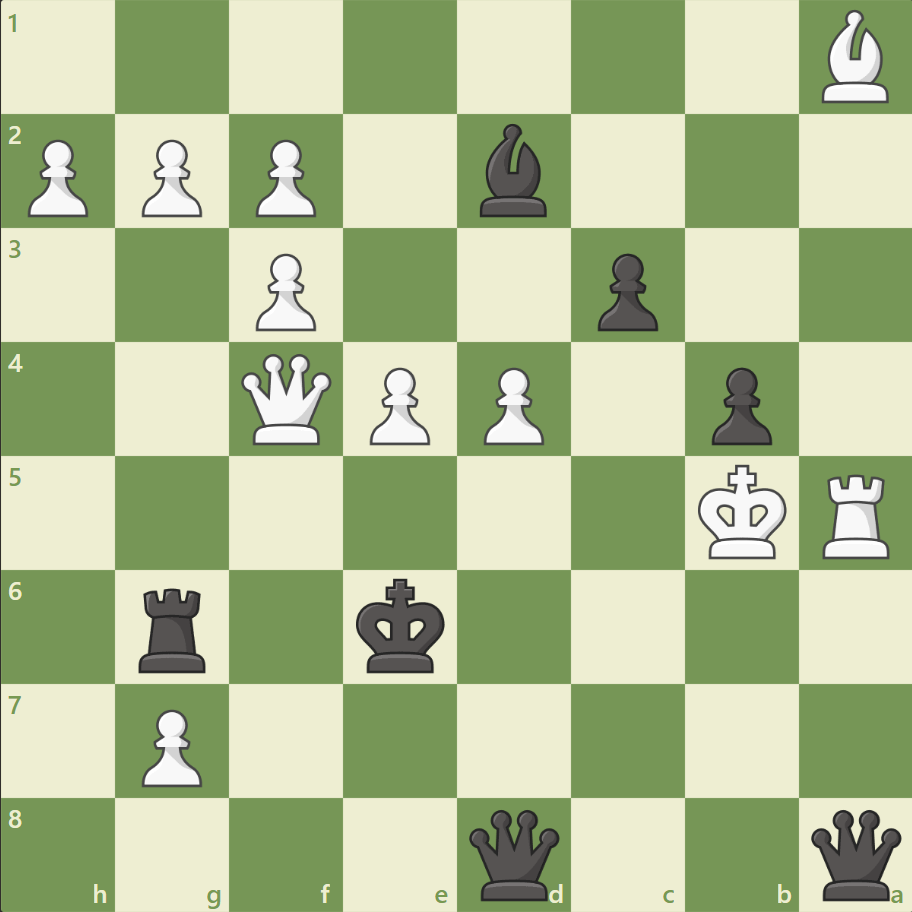B: (812, 6, 896, 109)
K: (692, 458, 792, 566)
P: (133, 700, 208, 791), (474, 359, 549, 450), (247, 246, 322, 337), (247, 132, 322, 223), (133, 132, 208, 223), (20, 132, 95, 223), (361, 359, 435, 450)
Q: (237, 349, 336, 449)
R: (814, 466, 897, 563)
b: (471, 120, 555, 222)
k: (351, 571, 451, 679)
p: (701, 359, 776, 450), (588, 246, 662, 337)
q: (805, 804, 904, 903), (464, 804, 563, 903)
r: (133, 579, 215, 676)
